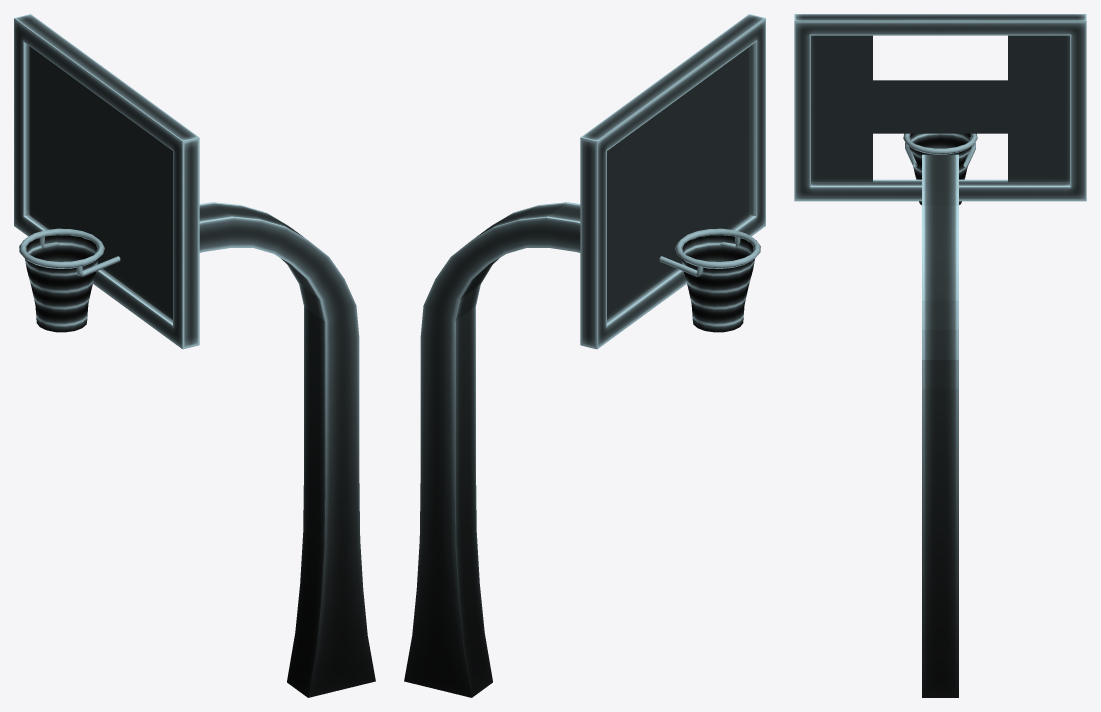
The model's file is UICreateRole_Basket.FBX.
The picture shows the model from 3 angles, left to right: view 1: azimuth 30°, elevation 25°; view 2: azimuth 150°, elevation 25°; view 3: azimuth 270°, elevation 25°; orthographic projection. The views are drawn at different scales.
Parts seen in each view (by area): view 1: a01, b01, b03, b02, a02, a03, a04, a06, a05, a07, a10, c17 (+25 smaller); view 2: a01, b02, b04, b01, a02, a03, a04, a06, a05, a07, a10, c10 (+25 smaller); view 3: b01, b02, b03, b04, c17, c10, a01, c18, c11, c16, c09, a07 (+20 smaller).
Part boxes in pixels (x1,y1,x2,y2): a01: (287,584,375,697); b01: (98,76,199,245); b03: (98,238,199,349); b02: (14,14,114,128); a02: (300,532,363,599); a03: (303,482,360,547); a04: (304,431,359,496); a06: (304,329,359,395); a05: (304,380,359,446); a07: (299,279,359,344); a10: (199,202,261,251); c17: (29,98,65,184); a01: (404,584,492,697); b02: (580,76,681,245); b04: (580,238,681,349); b01: (665,14,765,128); a02: (416,532,479,599); a03: (419,482,476,547); a04: (420,431,475,496); a06: (420,329,475,395); a05: (420,380,475,446); a07: (420,279,480,344); a10: (518,202,580,251); c10: (714,98,750,184); b01: (794,14,940,111); b02: (940,14,1086,111); b03: (794,111,921,201); b04: (959,111,1086,201); c17: (1008,80,1069,133); c10: (811,80,872,133); a01: (922,610,958,697); c18: (1008,133,1069,182); c11: (811,133,872,182); c16: (1008,35,1069,80); c09: (811,35,872,80); a07: (922,329,958,388).
Bounding box in the file's own units: 348 × 298 × 643.
Materials: 1 (1 with a texture image).
